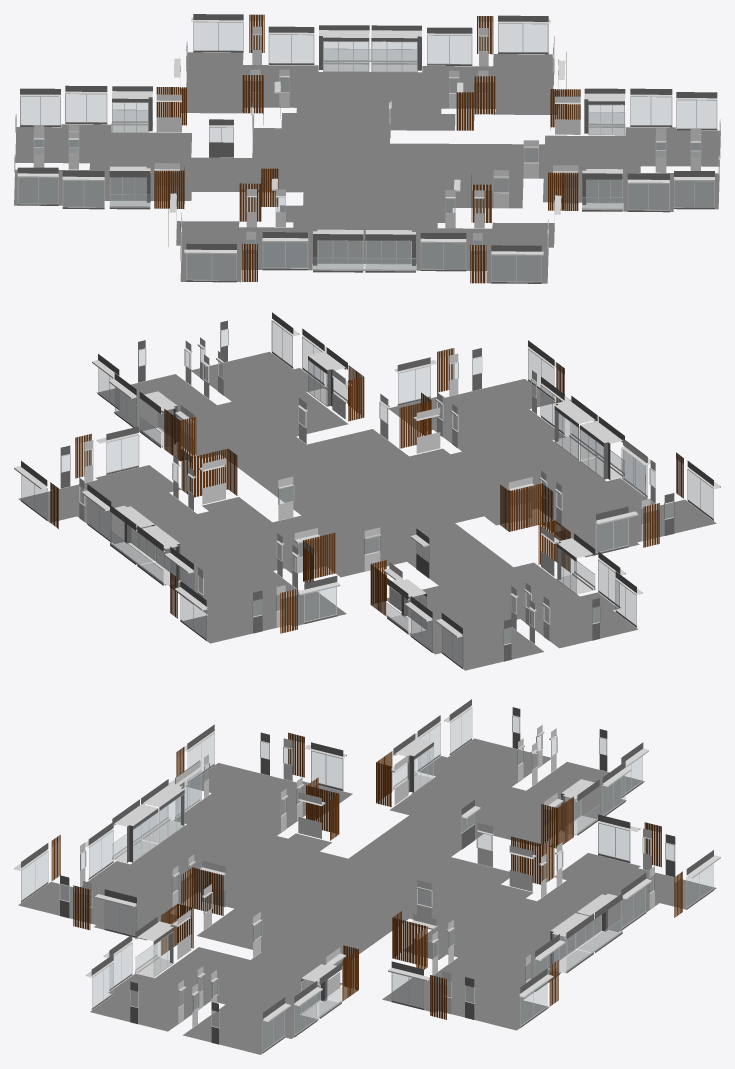
The model's file is 01_SM_T5_TypicalFloor.glb.
3 renders of one model, top to bottom at view 1: azimuth 30°, elevation 25°; view 2: azimuth 150°, elevation 25°; view 3: azimuth 270°, elevation 25°, orthographic. The views are drawn at different scales.
Visible parts, largest first — view 1: SM_Tower_05_TypicalFloor; view 2: SM_Tower_05_TypicalFloor; view 3: SM_Tower_05_TypicalFloor.
Part boxes in pixels (left/top/right/bottom): SM_Tower_05_TypicalFloor: left=14, top=14, right=720, bottom=283; SM_Tower_05_TypicalFloor: left=14, top=312, right=720, bottom=670; SM_Tower_05_TypicalFloor: left=14, top=699, right=720, bottom=1054.
Bounding box in the file's own units: 2.54 × 0.1525 × 2.39.
Materials: 6 (1 with a texture image).
